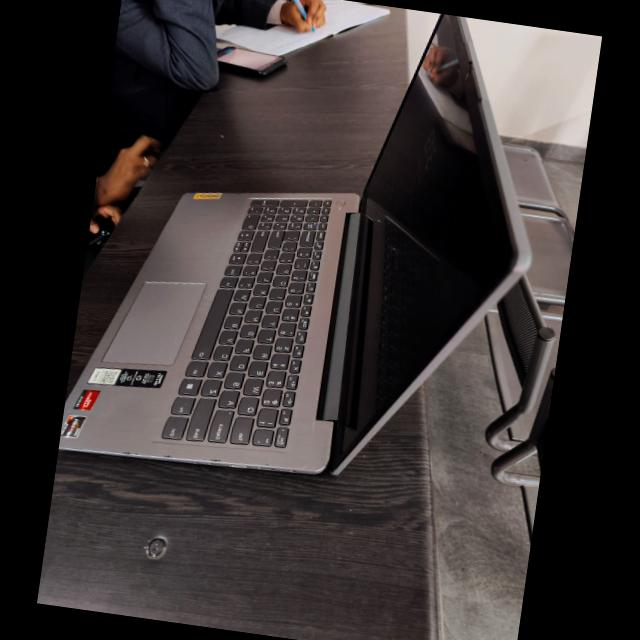laptop: (53, 0, 562, 551)
